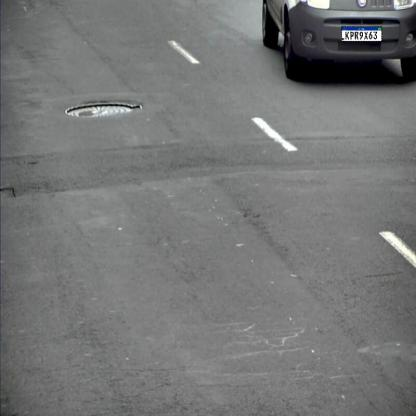PlacaM: (341, 26, 382, 42)
